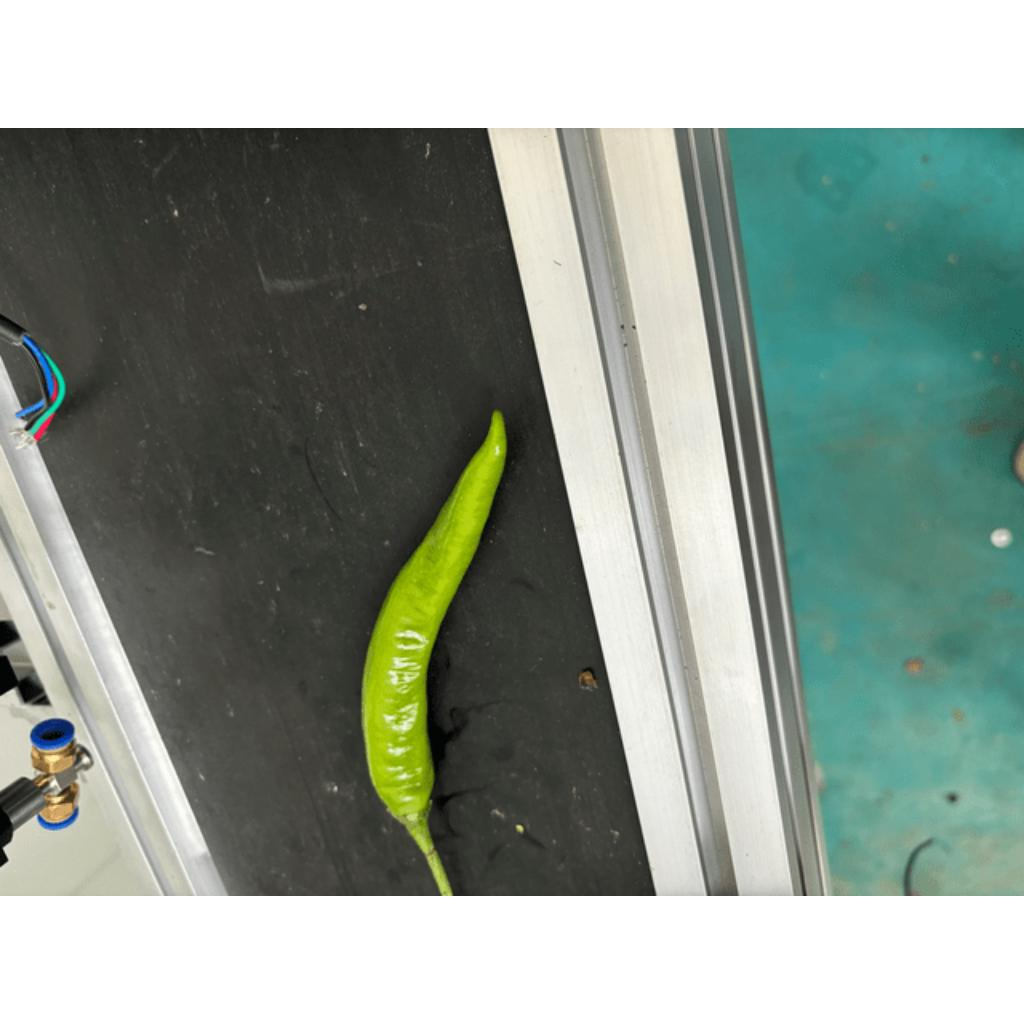chili: (356, 401, 509, 835)
